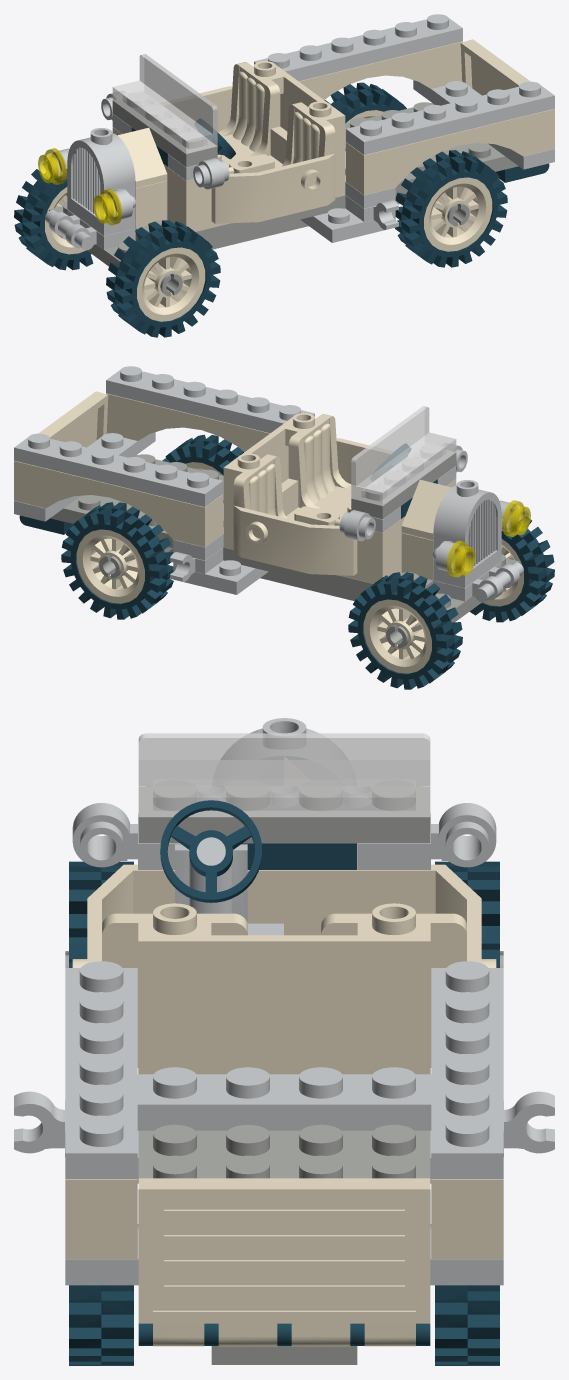
The model's file is nothing.glb.
The picture shows the model from 3 angles, top to bottom: view 1: azimuth 30°, elevation 25°; view 2: azimuth 150°, elevation 25°; view 3: azimuth 270°, elevation 25°; orthographic projection. The views are drawn at different scales.
Visible parts, largest first — view 1: Base (×32), Slope, sym_11; view 2: Base (×32), Slope, sym_11; view 3: Base (×24), sym_11.
Part boxes in pixels (x1=…): Base (×32): x1=14, y1=14, x2=554, y2=337; Slope: x1=118, y1=127, x2=167, y2=181; sym_11: x1=195, y1=119, x2=235, y2=159; Base (×32): x1=14, y1=366, x2=554, y2=689; Slope: x1=401, y1=479, x2=450, y2=533; sym_11: x1=370, y1=444, x2=410, y2=481; Base (×24): x1=14, y1=718, x2=554, y2=1365; sym_11: x1=160, y1=800, x2=262, y2=902.
Size of the model in its own units: 284 by 121 by 148.
